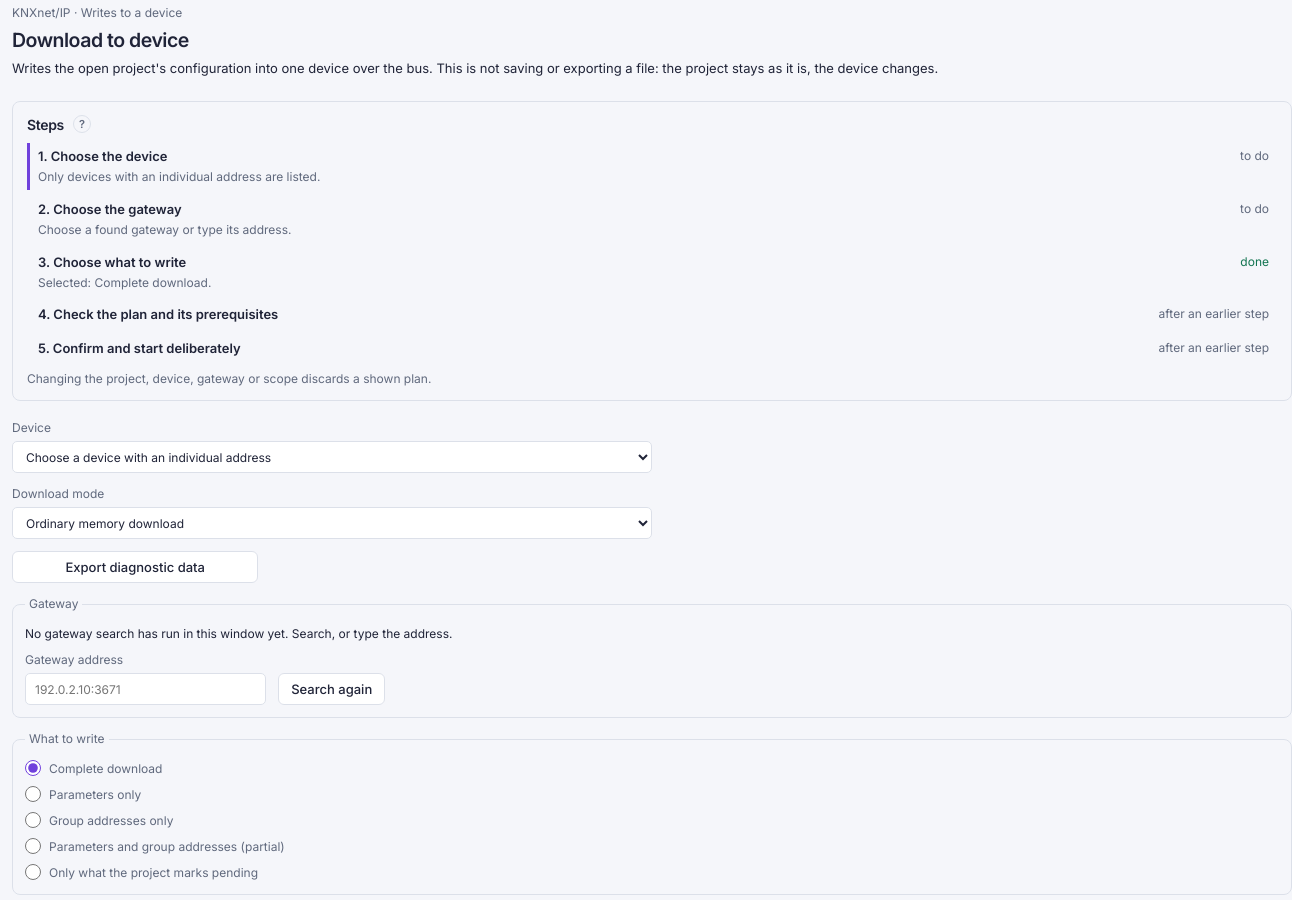
offers System-2 in the existing device download while preserving the ordinary scope
Expected: the element with class "device-download-scope" is shown, [12,730,1291,895]
Select "System-2 — experimental configured download" in the dropdown labelled "Download mode". click: (332, 523)
box: [12,507,652,539]
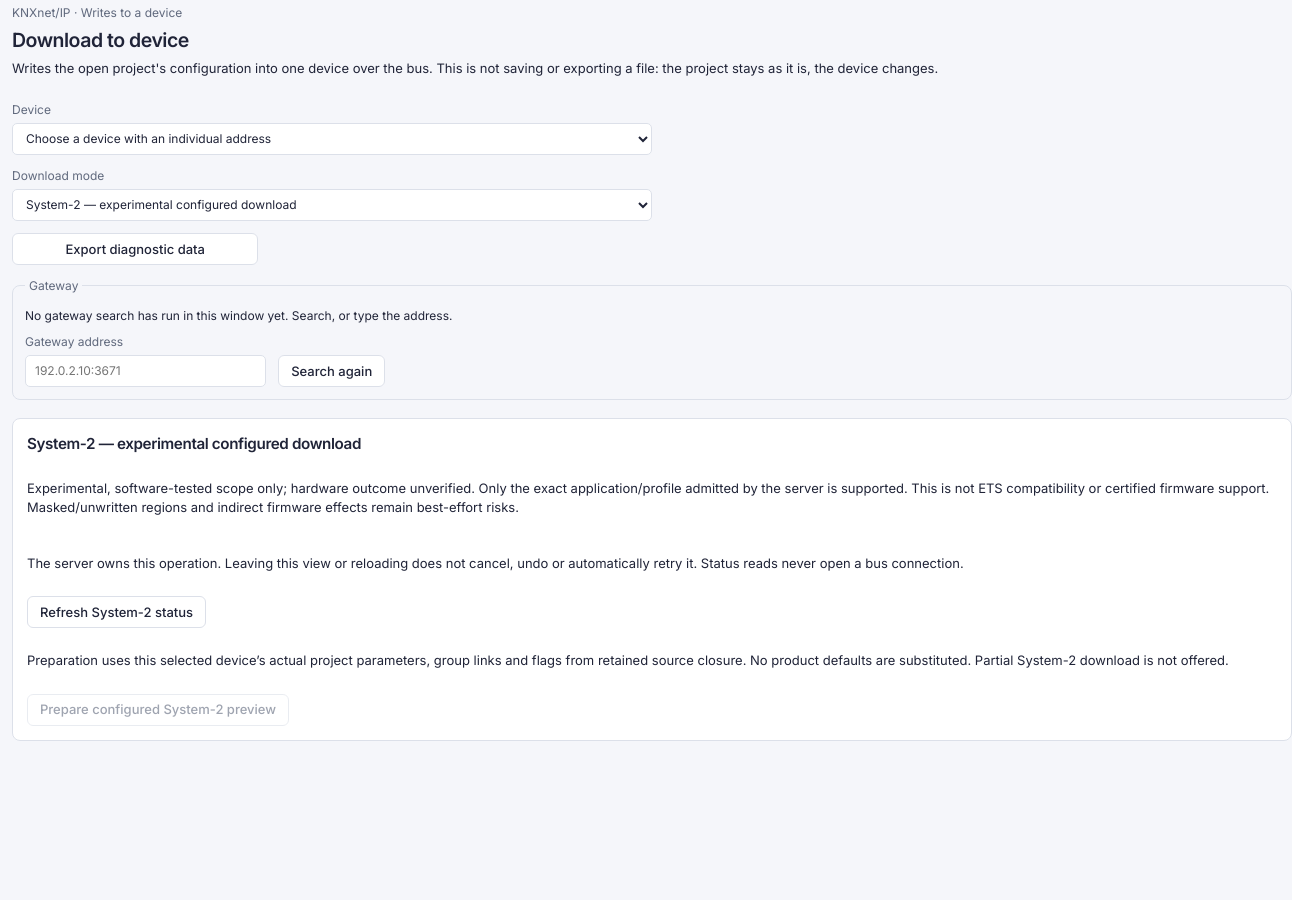
Now the button "Prepare configured System-2 preview" is shown, box [27,694,289,726]
Now the radio button with class "device-download-scope" is gone
